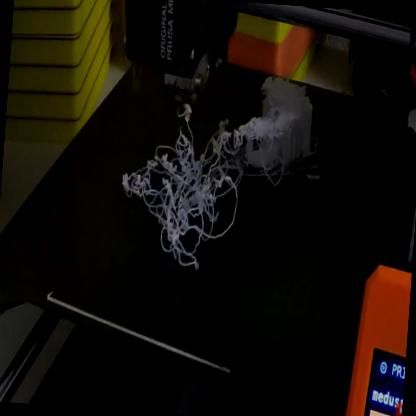fail: (117, 101, 274, 278)
